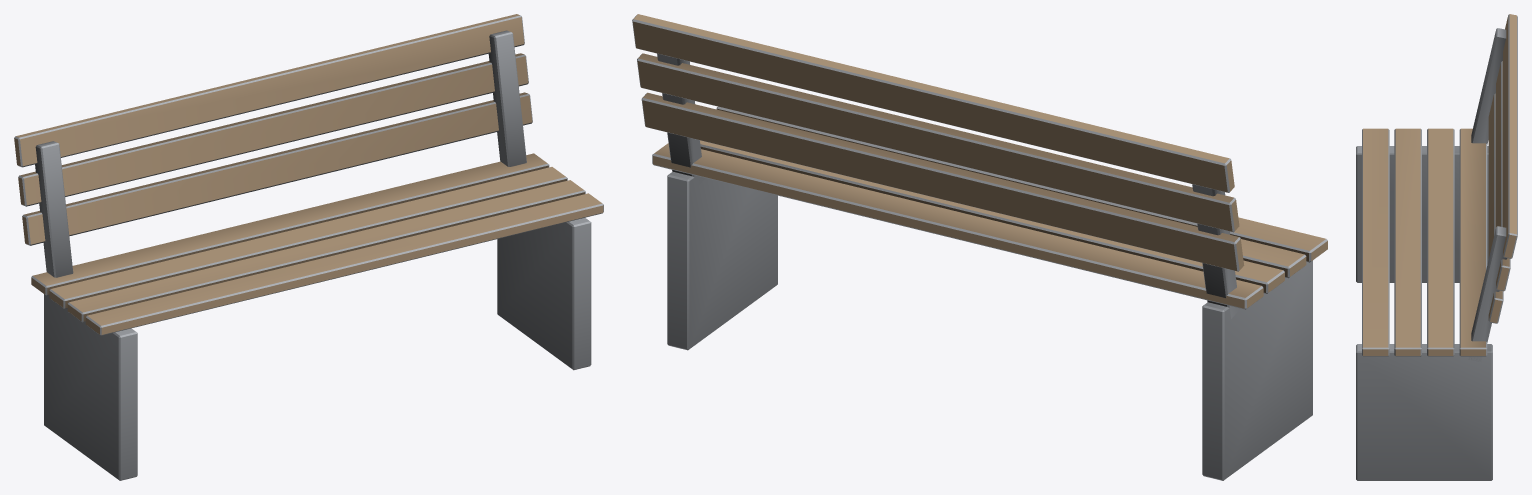
The model's file is bench.glb.
3 renders of one model, left to right at view 1: azimuth 30°, elevation 25°; view 2: azimuth 150°, elevation 25°; view 3: azimuth 270°, elevation 25°, orthographic. The views are drawn at different scales.
Parts seen in each view (by area): view 1: bench; view 2: bench; view 3: bench.
Boxes of the visible parts, x1=… form: bench: x1=14, y1=14, x2=603, y2=480; bench: x1=632, y1=14, x2=1327, y2=480; bench: x1=1356, y1=14, x2=1517, y2=480.
Size of the model in its own units: 1.6 by 0.8639 by 0.4967.
